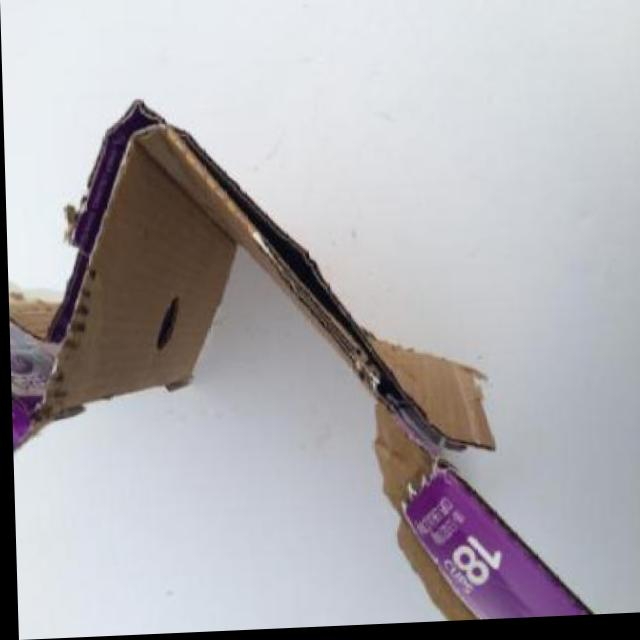box: (2, 62, 640, 639)
